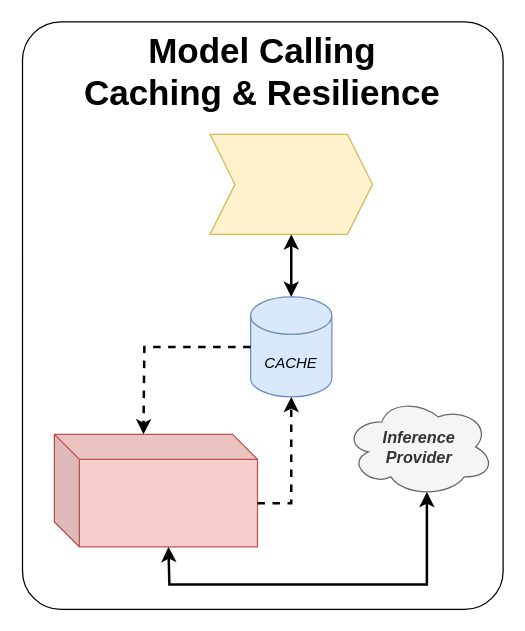
Image size: 525x631. Some labels were removed from this diagram. The centre of each missing label's shape, as x and y in pixels:
"Error Handling Retry Backoff Truncation Checking" belongs at point (155, 490).
"Model Call" belongs at point (290, 183).
